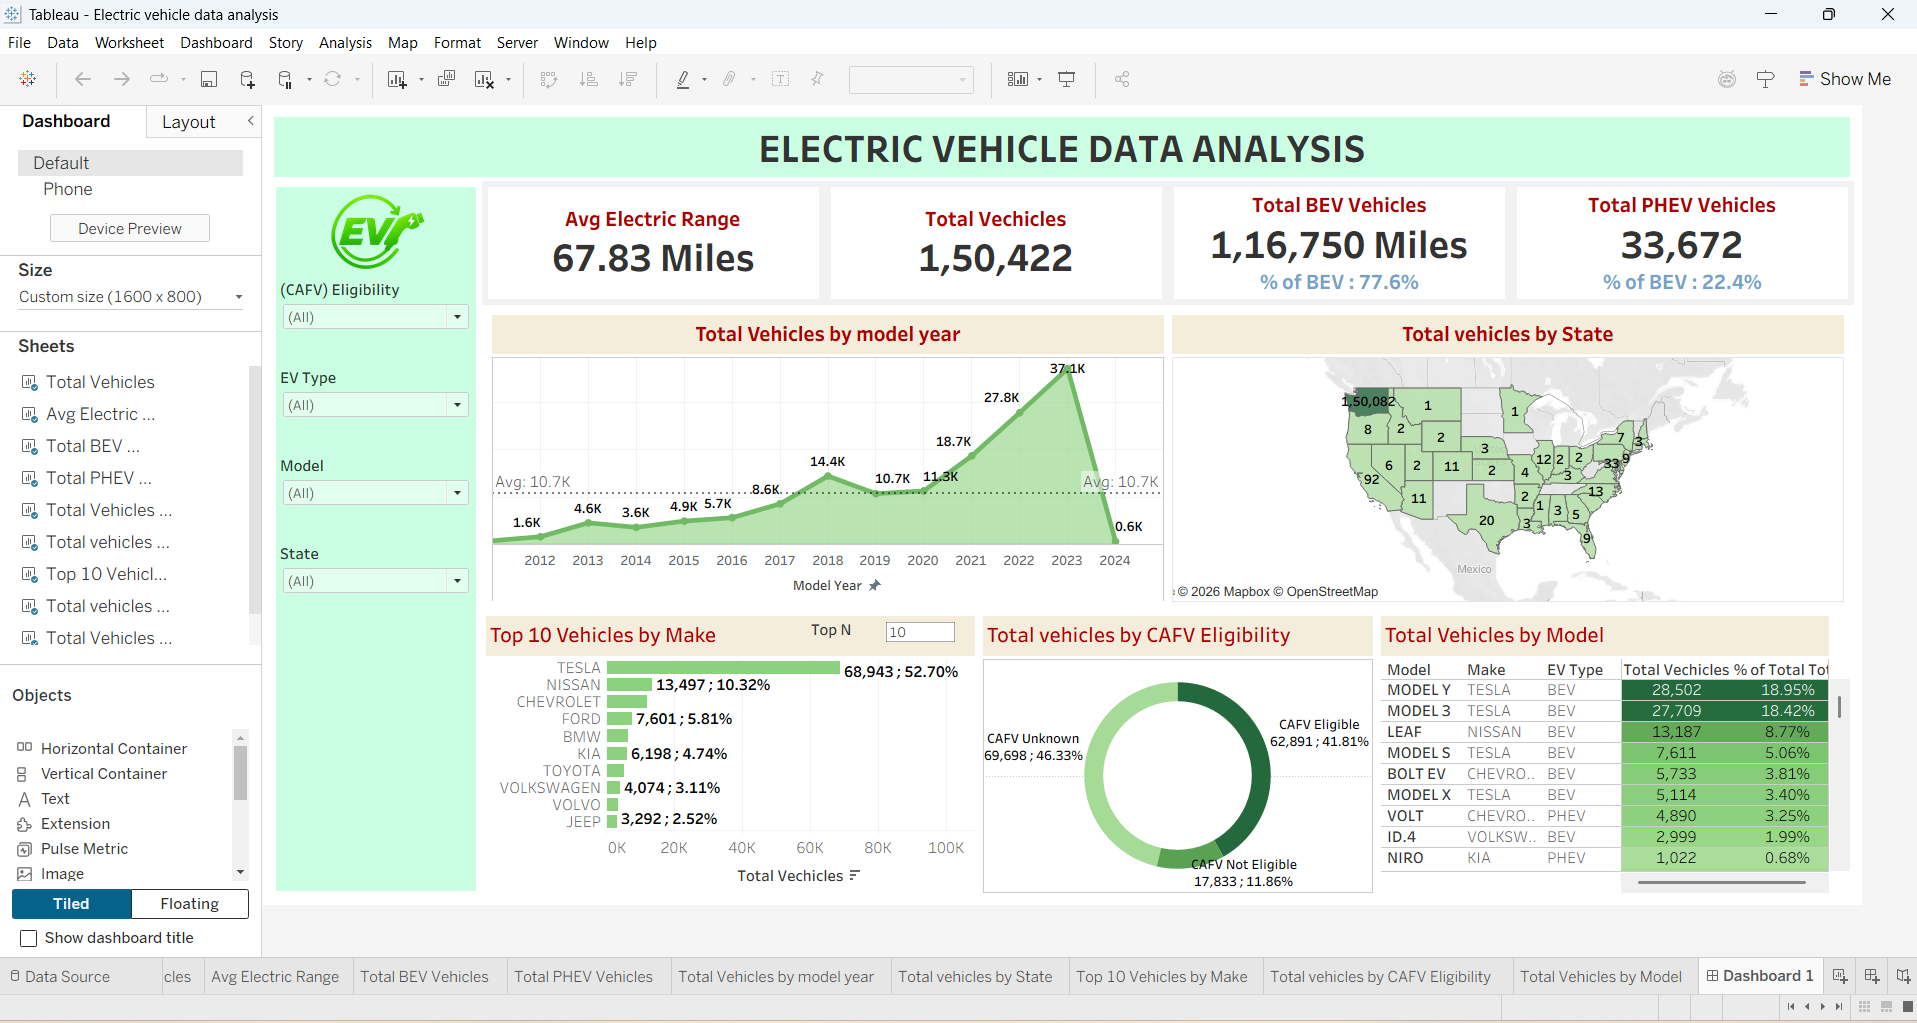

Layout of this report page (visuals, bound fields, positions):
{"tool":"tableau","page":{"name":"Dashboard 1","canvas":[1600,800],"ordinal":0},"visuals":[{"type":"title","box":[8,8,1584,68]},{"type":"worksheet","title":"Avg Electric Range","mark":"Automatic","box":[220,76,343,124]},{"type":"worksheet","title":"Total Vehicles","mark":"Automatic","box":[563,76,343,124]},{"type":"worksheet","title":"Total BEV Vehicles ","mark":"Automatic","box":[906,76,343,124]},{"type":"worksheet","title":"Total PHEV Vehicles ","mark":"Automatic","box":[1249,76,343,124]},{"type":"image","param":"C:/Users/magar/Downloads/Bright Green EV Charging Logo.png","box":[14,82,200,88]},{"type":"filter","title":"Total Vehicles by model year","param":"[federated.0es0yms1keudhm17alqxq0ofjzez].[none:Clean Alternative Fuel Vehicle (C","box":[14,170,200,88]},{"type":"worksheet","title":"Total Vehicles by model year","mark":"Area","rows":["Calculation_0227114308292608","Calculation_0227114308292608"],"cols":["Model Year"],"box":[226,206,680,295]},{"type":"worksheet","title":"Total vehicles by State","mark":"Multipolygon","box":[906,206,680,295]},{"type":"filter","title":"Total Vehicles by model year","param":"[federated.0es0yms1keudhm17alqxq0ofjzez].[none:Electric Vehicle Type:nk]","box":[14,258,200,88]},{"type":"filter","title":"Total Vehicles by model year","param":"[federated.0es0yms1keudhm17alqxq0ofjzez].[none:Model:nk]","box":[14,346,200,88]},{"type":"filter","title":"Total Vehicles by model year","param":"[federated.0es0yms1keudhm17alqxq0ofjzez].[none:State:nk]","box":[14,434,200,88]},{"type":"worksheet","title":"Top 10 Vehicles by Make","mark":"Automatic","rows":["Make"],"cols":["Calculation_0227114308292608"],"box":[220,507,497,285]},{"type":"worksheet","title":"Total vehicles by CAFV Eligibility ","mark":"Pie","rows":["Calculation_0227114355081226","Calculation_0227114355081226"],"box":[717,507,398,285]},{"type":"worksheet","title":"Total Vehicles by Model","mark":"Square","rows":["Model","Make","Electric Vehicle Type"],"box":[1115,507,477,285]},{"type":"parameter","param":"[Parameters].[Parameter 0227114337361928]","box":[549,514,147,35]},{"type":"blank","box":[14,522,200,88]},{"type":"blank","box":[14,610,200,88]},{"type":"blank","box":[14,698,200,88]}]}

Visuals, with their boxes on the page's 1600x800 design canvas (x1, y1, x2, y2). These are canvas units, not pixel positions in the 1917x1023 screenshot, which may show the page scaled, cropped or inside an application window:
title: 8,8,1592,76
"Avg Electric Range" worksheet: 220,76,563,200
"Total Vehicles" worksheet: 563,76,906,200
"Total BEV Vehicles " worksheet: 906,76,1249,200
"Total PHEV Vehicles " worksheet: 1249,76,1592,200
image: 14,82,214,170
"Total Vehicles by model year" filter: 14,170,214,258
"Total Vehicles by model year" worksheet (Area marks): 226,206,906,501
"Total vehicles by State" worksheet (Multipolygon marks): 906,206,1586,501
"Total Vehicles by model year" filter: 14,258,214,346
"Total Vehicles by model year" filter: 14,346,214,434
"Total Vehicles by model year" filter: 14,434,214,522
"Top 10 Vehicles by Make" worksheet: 220,507,717,792
"Total vehicles by CAFV Eligibility " worksheet (Pie marks): 717,507,1115,792
"Total Vehicles by Model" worksheet (Square marks): 1115,507,1592,792
parameter: 549,514,696,549
blank: 14,522,214,610
blank: 14,610,214,698
blank: 14,698,214,786
